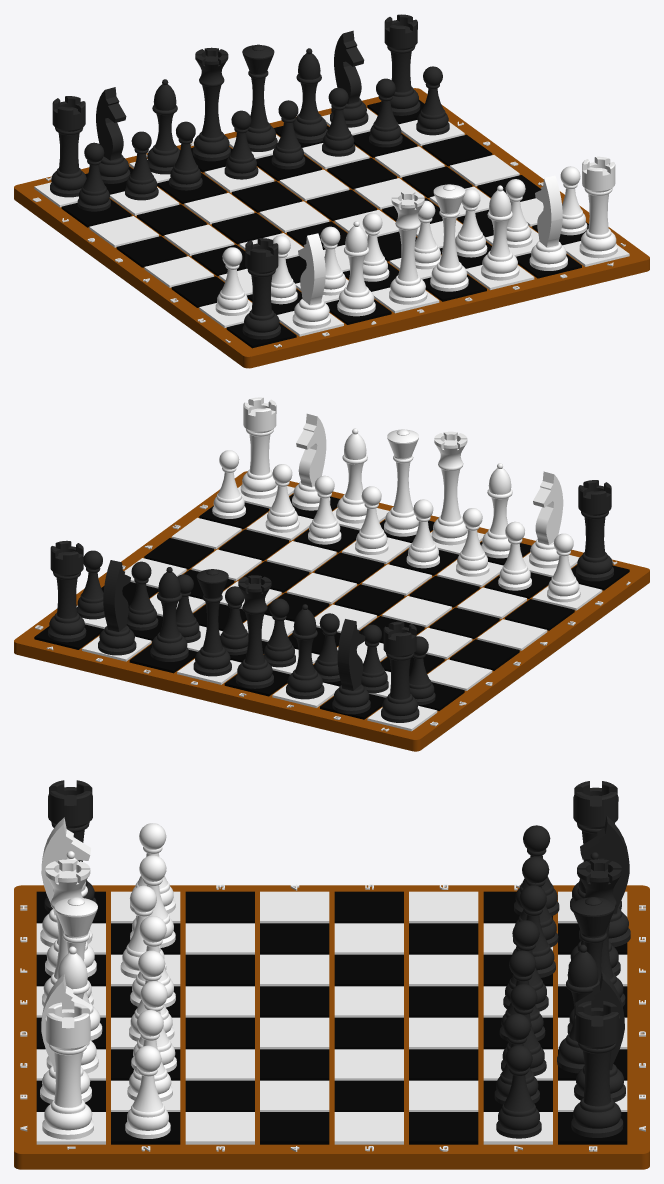
The model's file is chess-colored.glb.
3 views of the same model, one above another, from view 1: azimuth 30°, elevation 25°; view 2: azimuth 150°, elevation 25°; view 3: azimuth 270°, elevation 25° (orthographic). The views are drawn at different scales.
Bounding box in the file's own units: 0.367 × 0.097 × 0.367.
